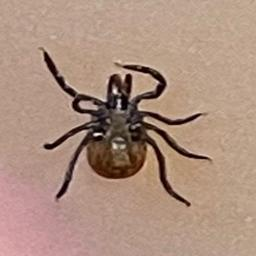Ixodes scapularis: (39, 48, 214, 208)
